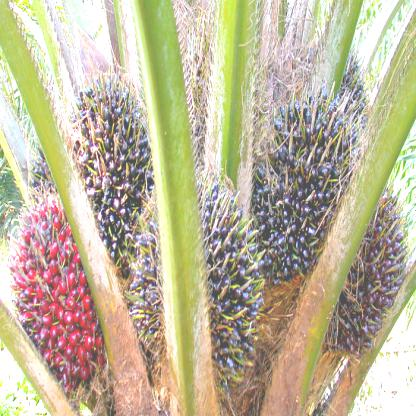1: (12, 208, 100, 385)
palm-oil: (133, 172, 269, 378), (254, 95, 359, 275), (324, 197, 416, 358), (76, 73, 156, 251)
